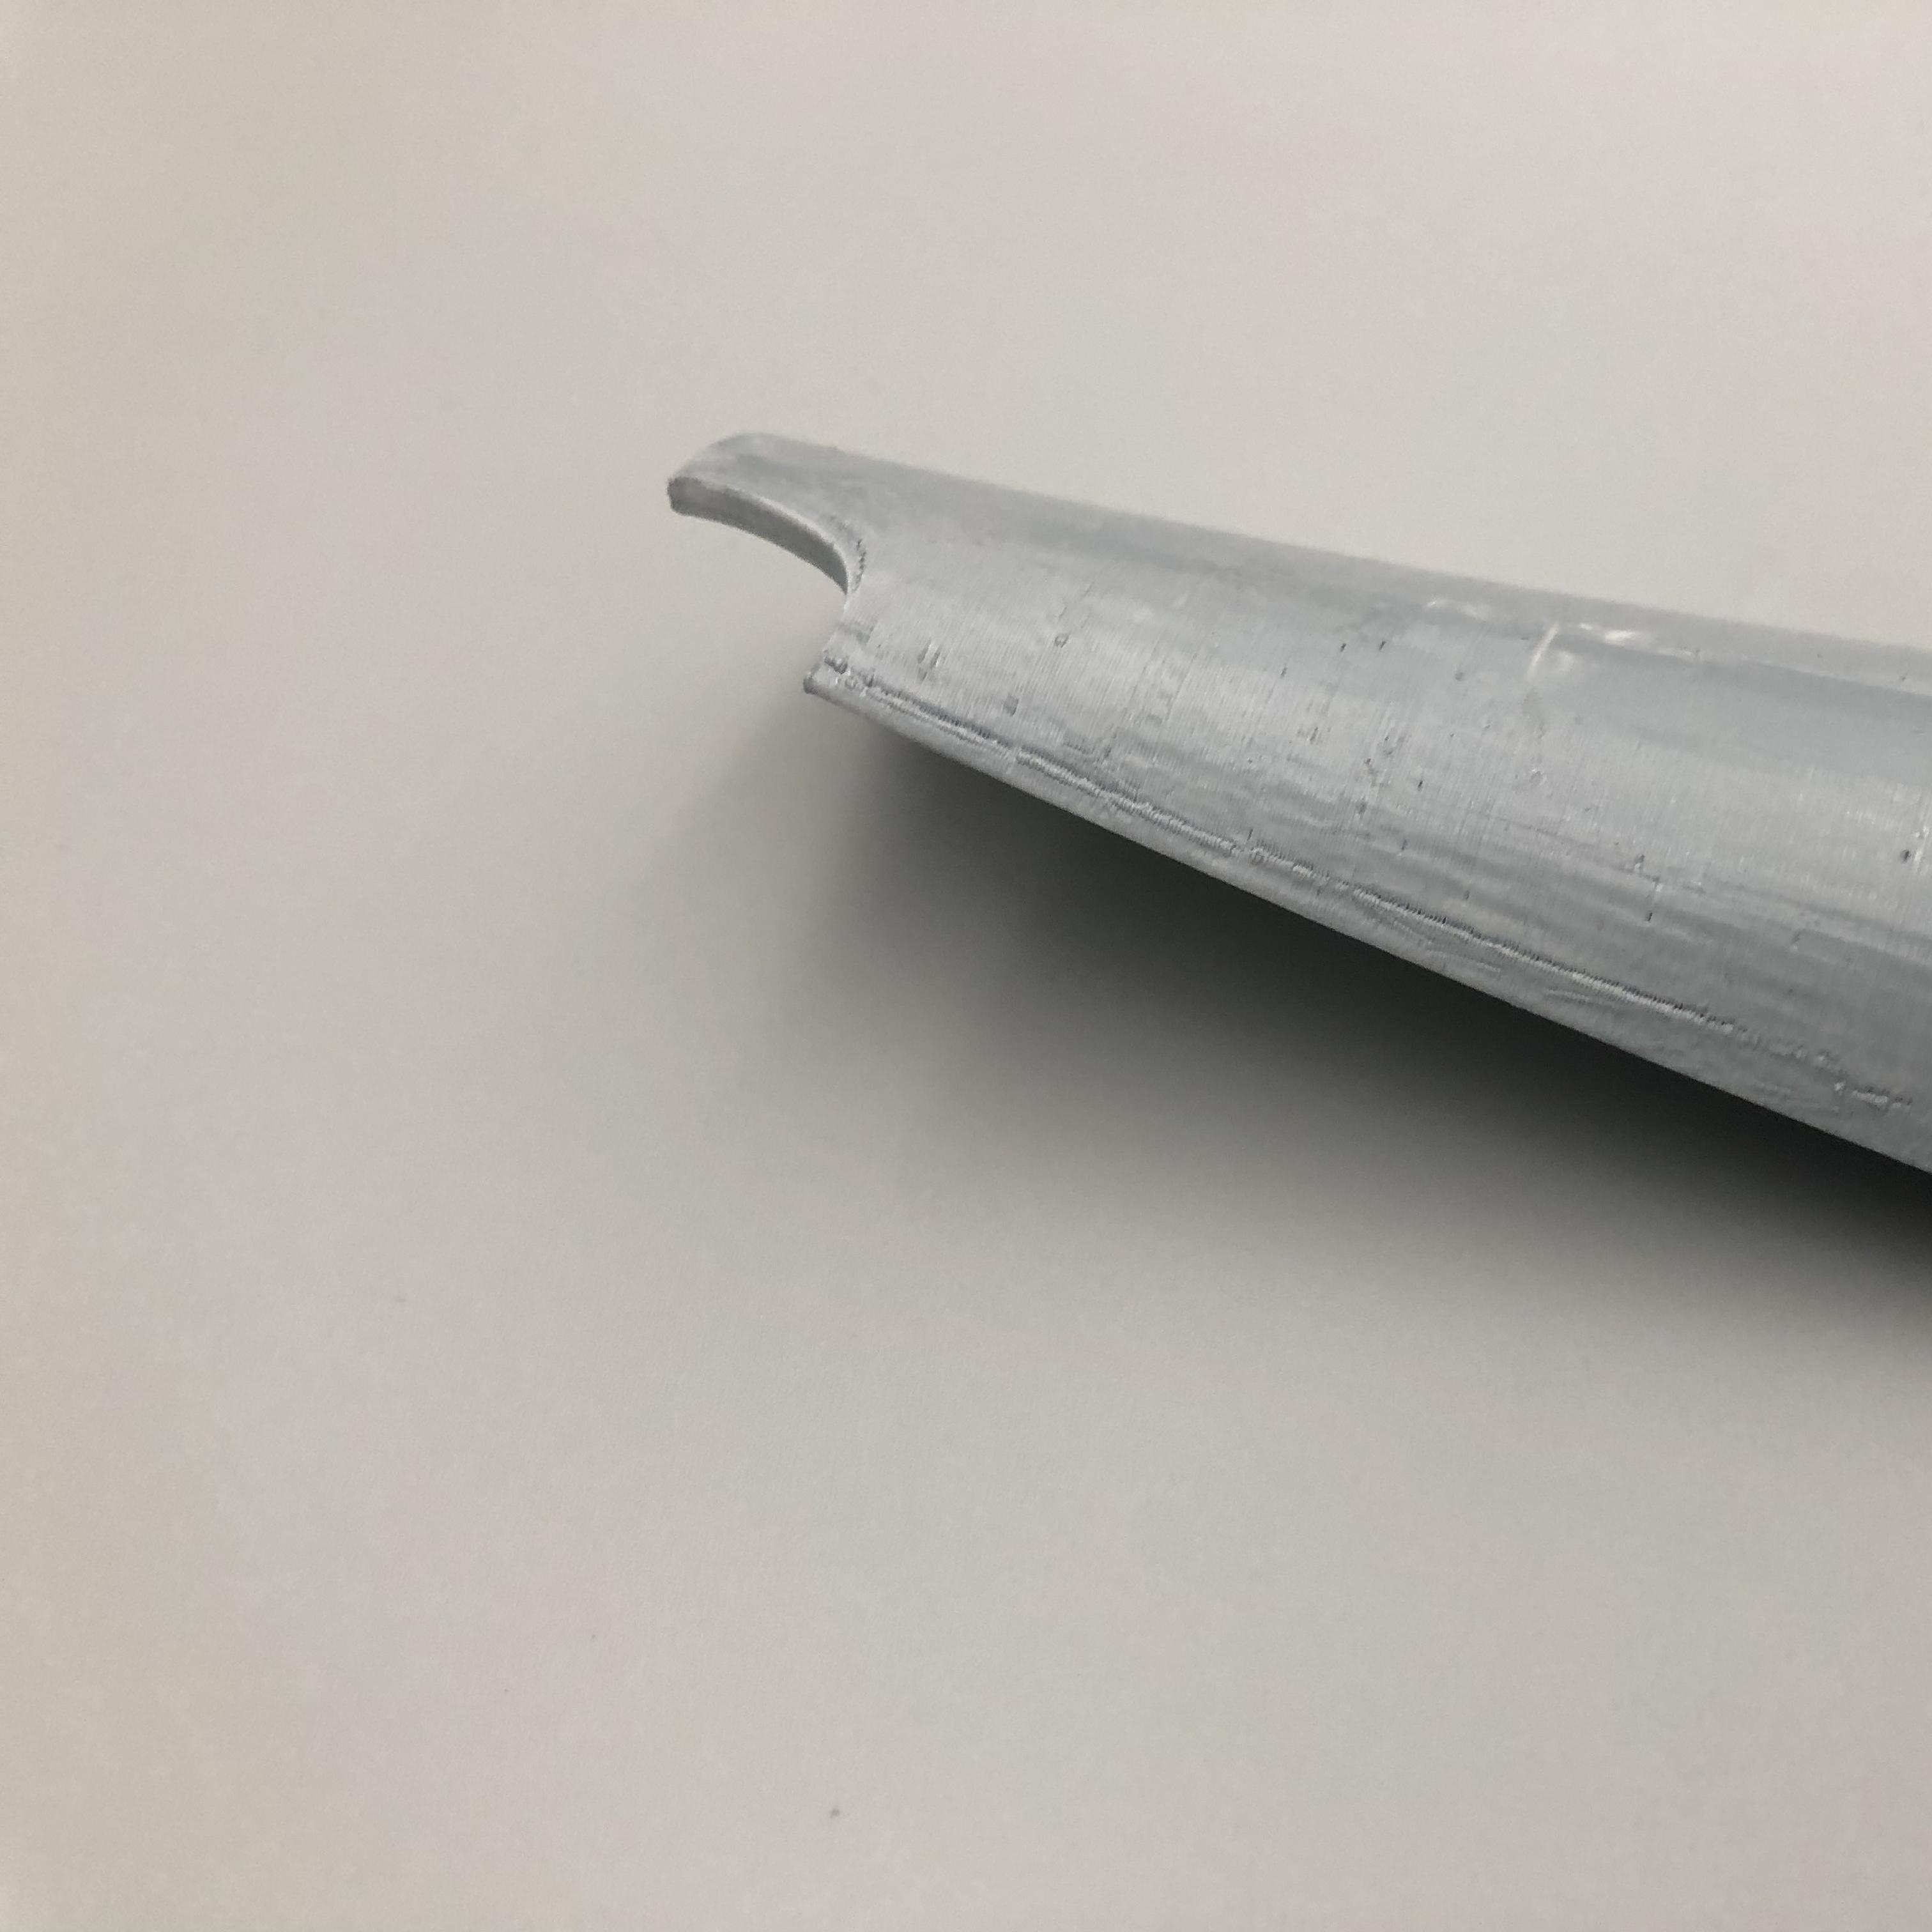fracture: (667, 472, 920, 697)
